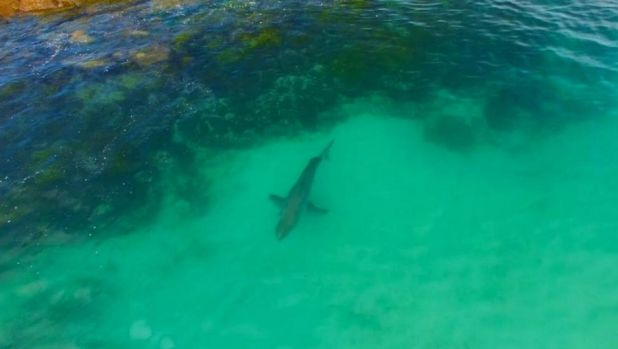shark: (265, 136, 338, 244)
